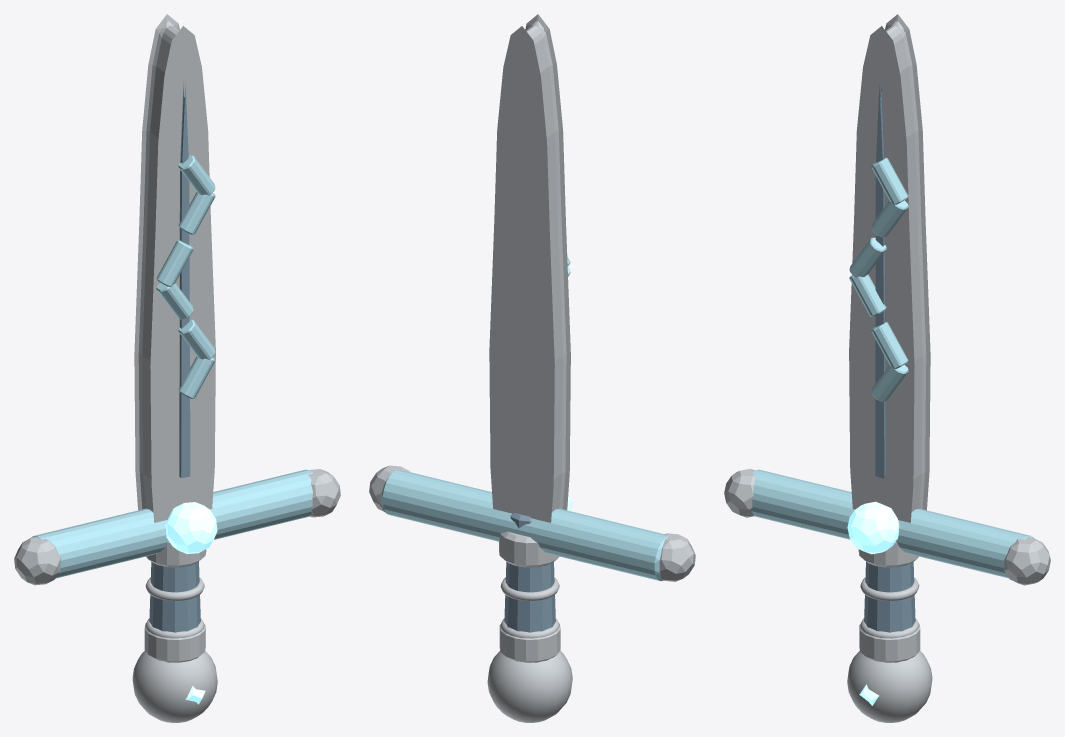
File: dual-pair-04-stormglass.glb
3 views of the same model, side by side, from view 1: azimuth 30°, elevation 25°; view 2: azimuth 150°, elevation 25°; view 3: azimuth 330°, elevation 25° (orthographic).
Parts seen in each view (by area): view 1: dual-pair-04-stormglass_ForgedBlade.001, dual-pair-04-stormglass_Crossguard.001, dual-pair-04-stormglass_Pommel.001, dual-pair-04-stormglass_ColoredFuller.001, dual-pair-04-stormglass_LeatherGrip.001, dual-pair-04-stormglass_GuardGem.001, dual-pair-04-stormglass_GuardEnd_-1.001, dual-pair-04-stormglass_LowerFerrule.001, dual-pair-04-stormglass_GuardEnd_1.001, dual-pair-04-stormglass_LightningMarkTail_2.001, dual-pair-04-stormglass_UpperFerrule.001, dual-pair-04-stormglass_LightningMark_1.001 (+5 smaller); view 2: dual-pair-04-stormglass_ForgedBlade.001, dual-pair-04-stormglass_Crossguard.001, dual-pair-04-stormglass_Pommel.001, dual-pair-04-stormglass_LeatherGrip.001, dual-pair-04-stormglass_LowerFerrule.001, dual-pair-04-stormglass_UpperFerrule.001, dual-pair-04-stormglass_GuardEnd_-1.001, dual-pair-04-stormglass_GuardEnd_1.001, dual-pair-04-stormglass_GripBinding_2.001; view 3: dual-pair-04-stormglass_ForgedBlade.001, dual-pair-04-stormglass_Crossguard.001, dual-pair-04-stormglass_Pommel.001, dual-pair-04-stormglass_LeatherGrip.001, dual-pair-04-stormglass_ColoredFuller.001, dual-pair-04-stormglass_GuardGem.001, dual-pair-04-stormglass_GuardEnd_1.001, dual-pair-04-stormglass_LowerFerrule.001, dual-pair-04-stormglass_GuardEnd_-1.001, dual-pair-04-stormglass_LightningMarkTail_3.001, dual-pair-04-stormglass_LightningMarkTail_1.001, dual-pair-04-stormglass_UpperFerrule.001 (+5 smaller).
Part boxes in pixels (x1=…): dual-pair-04-stormglass_ForgedBlade.001: x1=134, y1=14, x2=215, y2=522; dual-pair-04-stormglass_Crossguard.001: x1=31, y1=469, x2=313, y2=578; dual-pair-04-stormglass_Pommel.001: x1=132, y1=651, x2=217, y2=722; dual-pair-04-stormglass_ColoredFuller.001: x1=179, y1=82, x2=190, y2=477; dual-pair-04-stormglass_LeatherGrip.001: x1=149, y1=561, x2=200, y2=632; dual-pair-04-stormglass_GuardGem.001: x1=165, y1=502, x2=217, y2=554; dual-pair-04-stormglass_GuardEnd_-1.001: x1=14, y1=537, x2=60, y2=585; dual-pair-04-stormglass_LowerFerrule.001: x1=144, y1=623, x2=205, y2=662; dual-pair-04-stormglass_GuardEnd_1.001: x1=308, y1=469, x2=340, y2=517; dual-pair-04-stormglass_LightningMarkTail_2.001: x1=156, y1=240, x2=193, y2=286; dual-pair-04-stormglass_UpperFerrule.001: x1=146, y1=542, x2=206, y2=567; dual-pair-04-stormglass_LightningMark_1.001: x1=178, y1=356, x2=215, y2=398; dual-pair-04-stormglass_ForgedBlade.001: x1=489, y1=14, x2=570, y2=522; dual-pair-04-stormglass_Crossguard.001: x1=381, y1=470, x2=668, y2=581; dual-pair-04-stormglass_Pommel.001: x1=487, y1=651, x2=572, y2=722; dual-pair-04-stormglass_LeatherGrip.001: x1=504, y1=513, x2=555, y2=632; dual-pair-04-stormglass_LowerFerrule.001: x1=499, y1=623, x2=560, y2=662; dual-pair-04-stormglass_UpperFerrule.001: x1=499, y1=531, x2=559, y2=567; dual-pair-04-stormglass_GuardEnd_-1.001: x1=659, y1=533, x2=695, y2=581; dual-pair-04-stormglass_GuardEnd_1.001: x1=369, y1=465, x2=409, y2=512; dual-pair-04-stormglass_GripBinding_2.001: x1=500, y1=577, x2=559, y2=600; dual-pair-04-stormglass_ForgedBlade.001: x1=849, y1=14, x2=930, y2=522; dual-pair-04-stormglass_Crossguard.001: x1=751, y1=469, x2=1034, y2=578; dual-pair-04-stormglass_Pommel.001: x1=847, y1=651, x2=932, y2=722; dual-pair-04-stormglass_LeatherGrip.001: x1=864, y1=561, x2=915, y2=632; dual-pair-04-stormglass_ColoredFuller.001: x1=875, y1=82, x2=886, y2=478; dual-pair-04-stormglass_GuardGem.001: x1=847, y1=501, x2=899, y2=554; dual-pair-04-stormglass_GuardEnd_1.001: x1=1004, y1=536, x2=1050, y2=585; dual-pair-04-stormglass_LowerFerrule.001: x1=859, y1=623, x2=920, y2=662; dual-pair-04-stormglass_GuardEnd_-1.001: x1=724, y1=468, x2=755, y2=517; dual-pair-04-stormglass_LightningMarkTail_3.001: x1=871, y1=157, x2=908, y2=204; dual-pair-04-stormglass_LightningMarkTail_1.001: x1=871, y1=322, x2=908, y2=368; dual-pair-04-stormglass_UpperFerrule.001: x1=858, y1=542, x2=918, y2=567.
Size of the model in its own units: 0.4747 by 0.99 by 0.1286.
